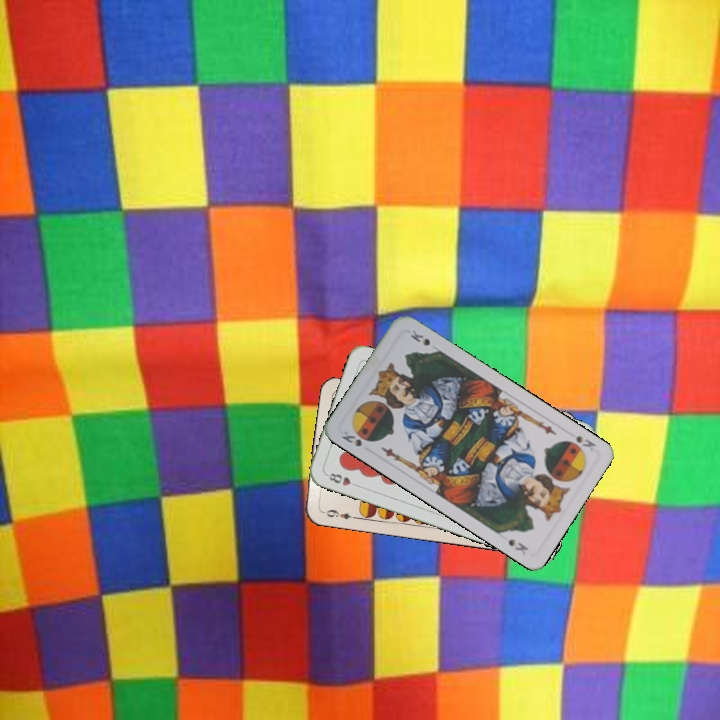E9: (318, 505, 358, 522)
H8: (322, 469, 362, 489)
SK: (337, 426, 364, 449), (572, 431, 598, 454)
